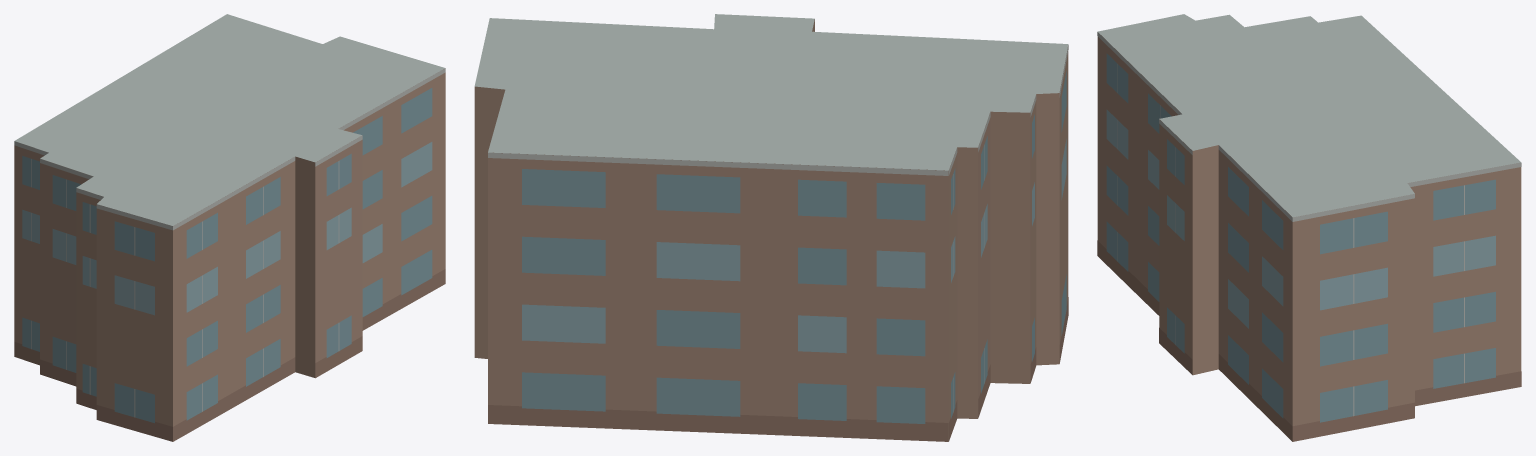
The model's file is survey-upis-32582397.glb.
The picture shows the model from 3 angles, left to right: view 1: azimuth 30°, elevation 25°; view 2: azimuth 150°, elevation 25°; view 3: azimuth 270°, elevation 25°; orthographic projection. The views are drawn at different scales.
Visible parts, largest first — view 1: survey-upis-32582397.tmp; view 2: survey-upis-32582397.tmp; view 3: survey-upis-32582397.tmp.
Part boxes in pixels (left/top/right/bottom): survey-upis-32582397.tmp: left=14, top=14, right=445, bottom=441; survey-upis-32582397.tmp: left=474, top=14, right=1068, bottom=441; survey-upis-32582397.tmp: left=1097, top=14, right=1521, bottom=441.
Bounding box in the file's own units: 23.74 × 12.2 × 20.9.
